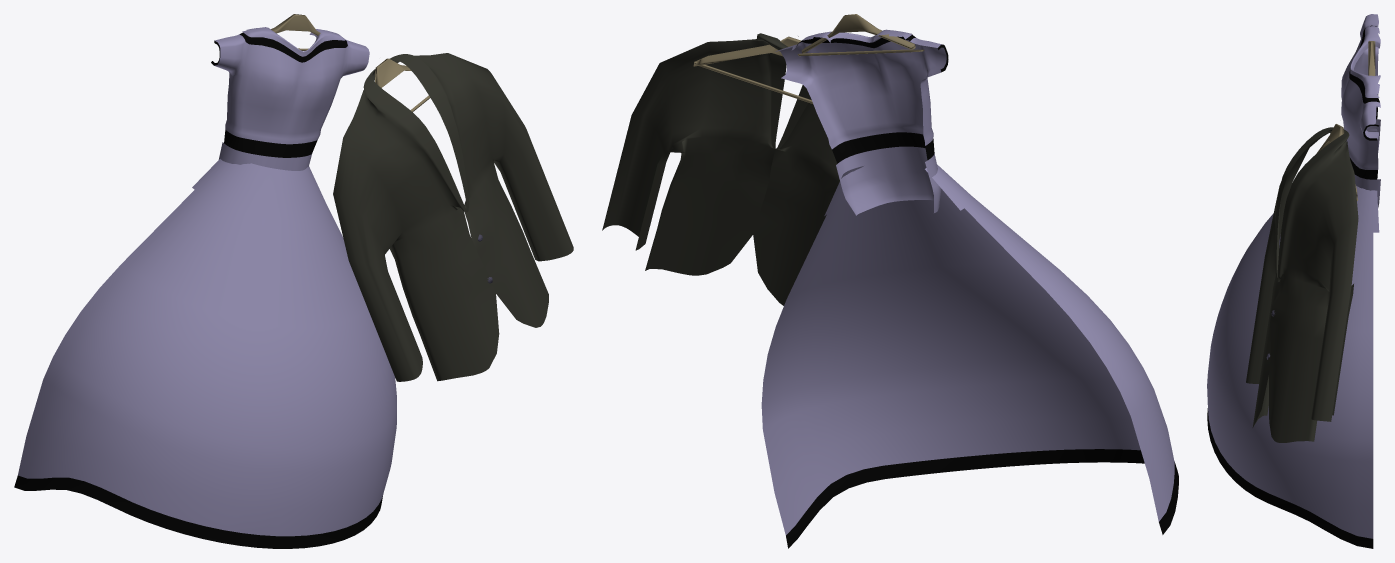
Rendered from cloths 2.fbx.
3 renders of one model, left to right at view 1: azimuth 30°, elevation 25°; view 2: azimuth 150°, elevation 25°; view 3: azimuth 270°, elevation 25°, orthographic. The views are drawn at different scales.
Visible parts, largest first — view 1: pCylinder8, polySurface16; view 2: pCylinder8, polySurface16; view 3: pCylinder8, polySurface16.
Boxes of the visible parts, x1,y1,x2,y2 form: pCylinder8: (14,14,396,548); polySurface16: (333,53,573,381); pCylinder8: (761,14,1178,548); polySurface16: (602,33,839,305); pCylinder8: (1207,14,1380,548); polySurface16: (1246,124,1358,442).
Bounding box in the file's own units: 7.66 × 6.88 × 2.26.
